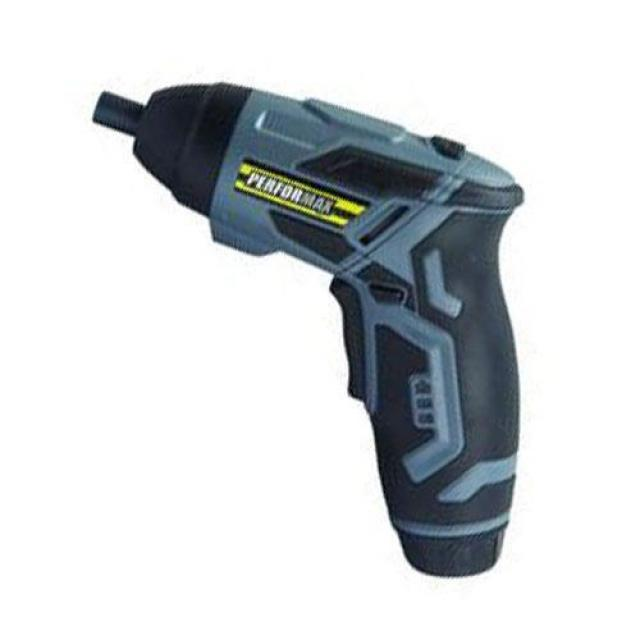drill: (91, 81, 526, 578)
